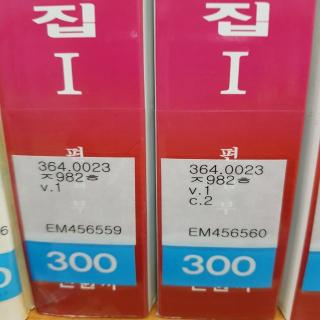book-spine: (149, 0, 316, 320), (0, 0, 148, 320), (12, 151, 137, 287), (158, 158, 286, 288)
